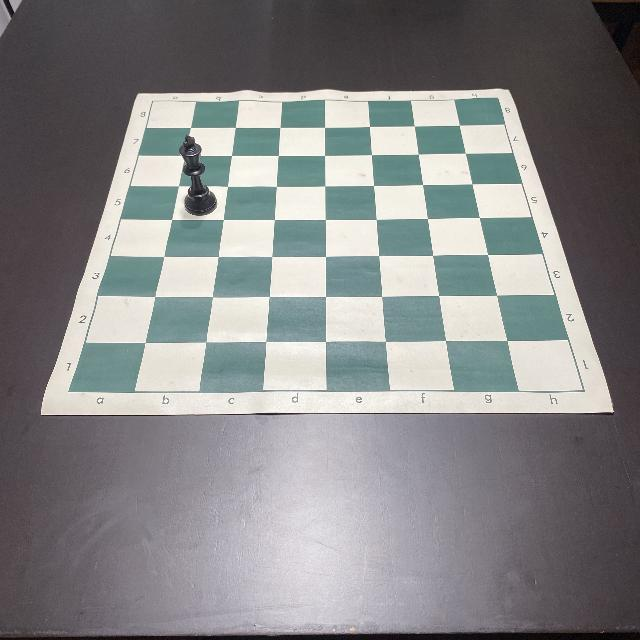black-king: (178, 134, 218, 216)
board: (41, 91, 614, 419)
